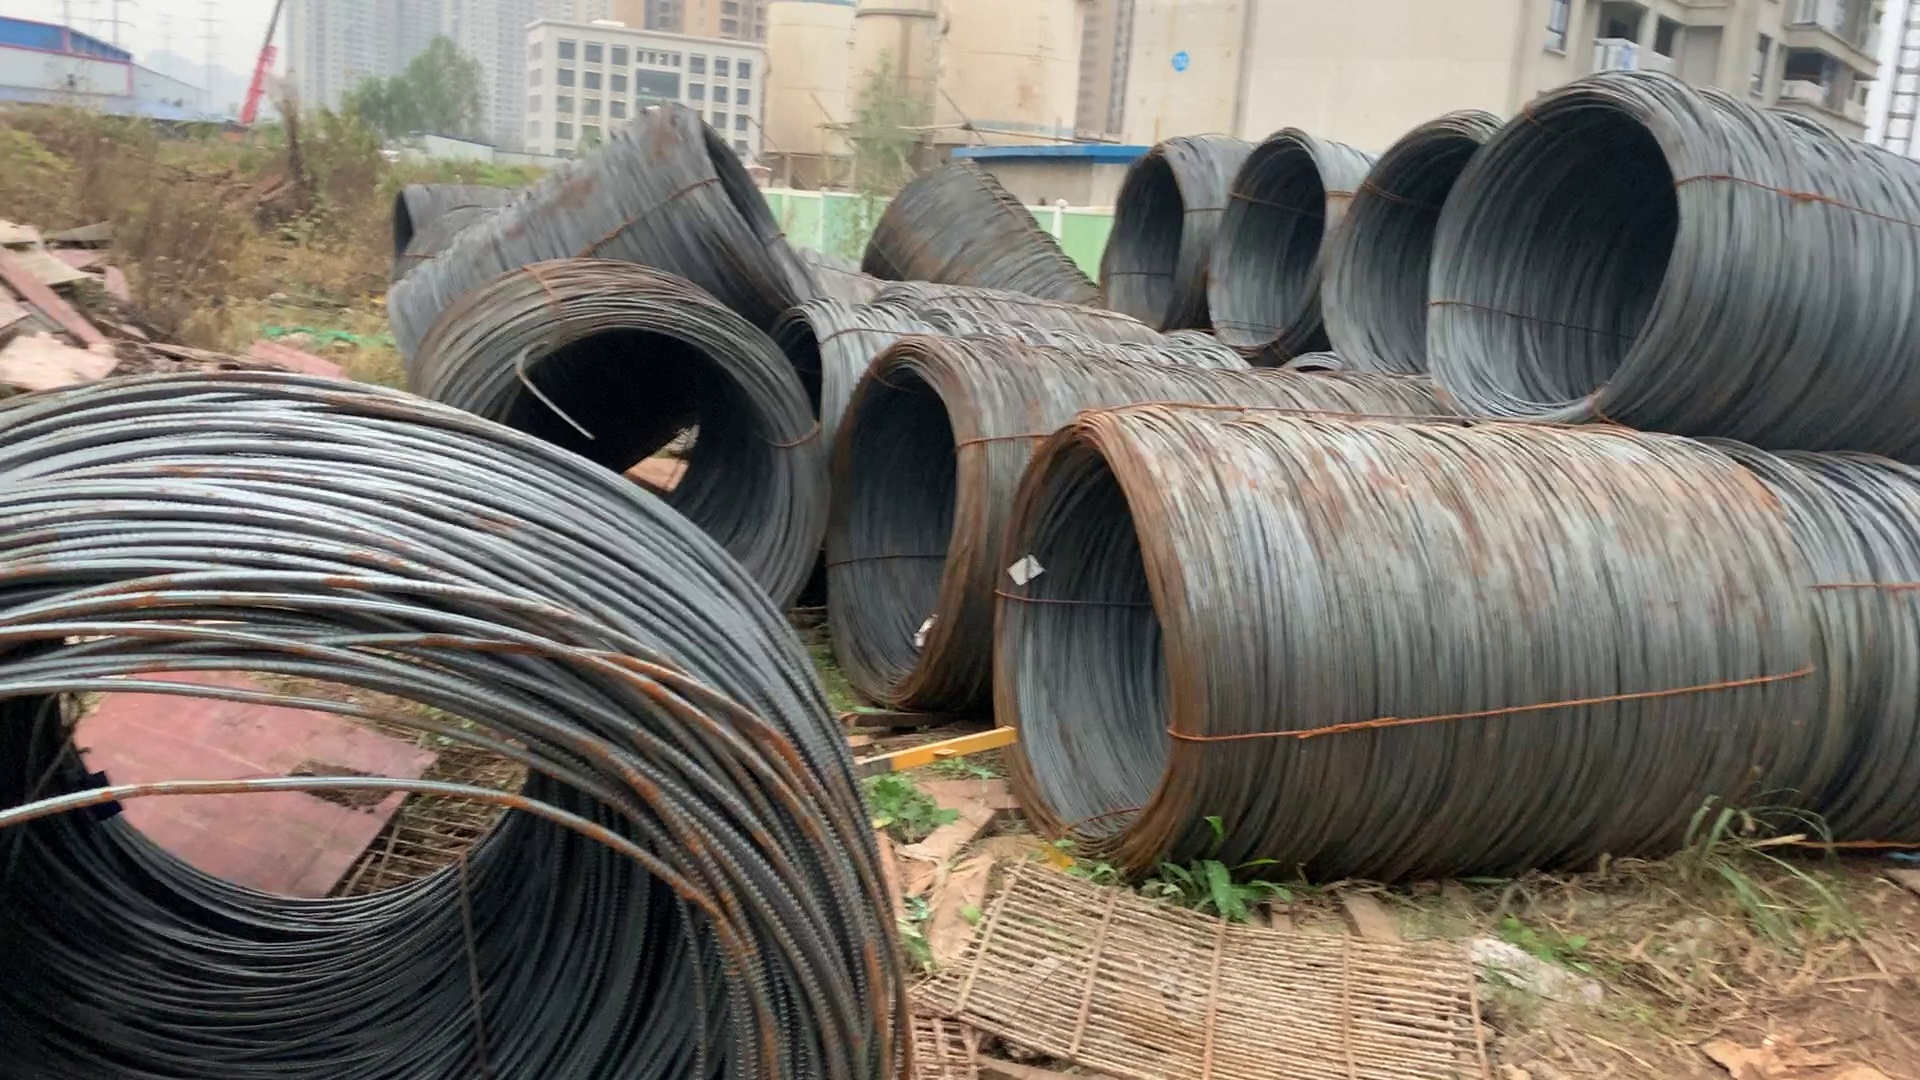coil: (1, 527, 927, 1079), (435, 299, 827, 654), (985, 433, 1204, 837), (1432, 102, 1685, 418), (829, 353, 988, 716), (1321, 124, 1510, 378), (669, 107, 840, 335), (1213, 127, 1329, 360), (1096, 135, 1199, 327), (382, 185, 433, 310)
